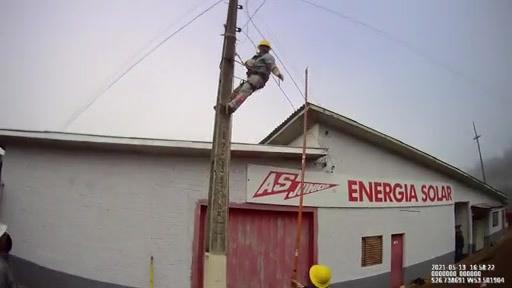Vara_Manobra: (290, 70, 310, 288)
